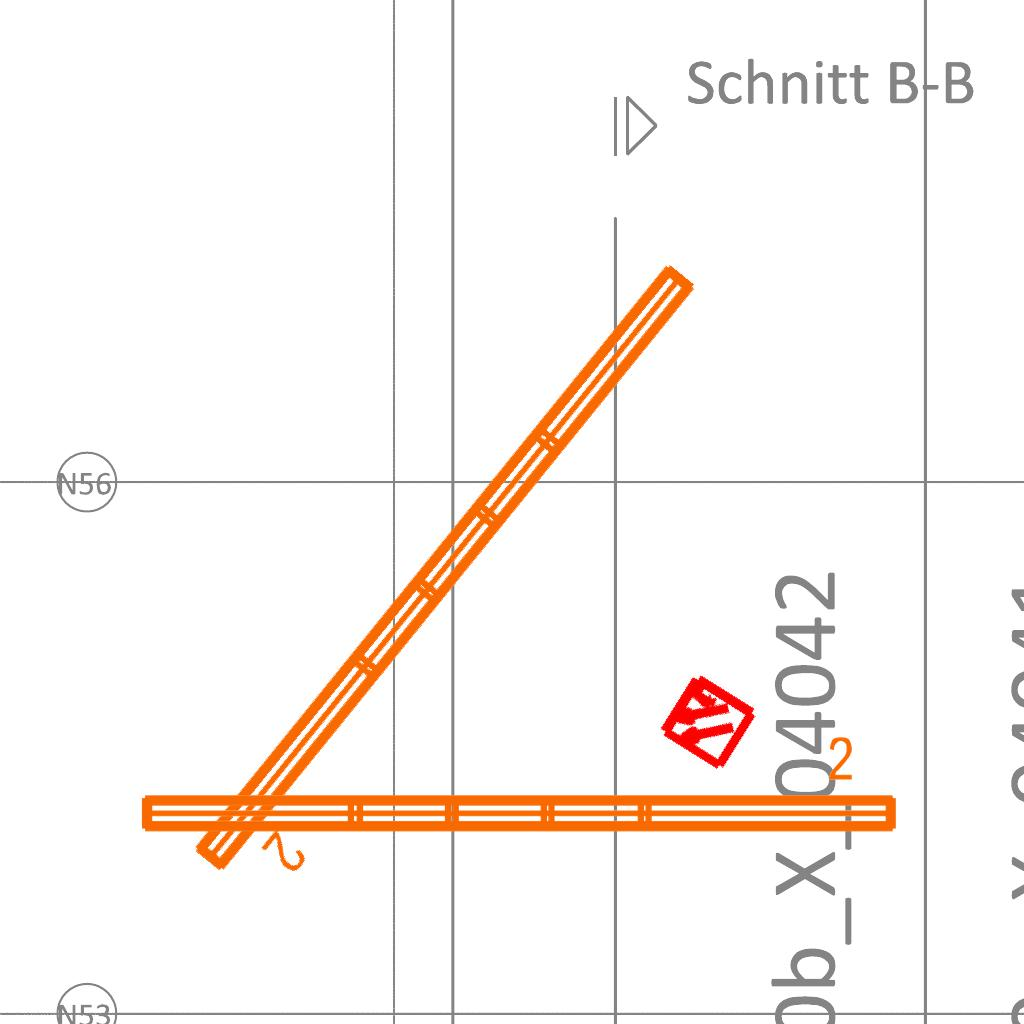Ambulanz_Pendelleuchte_LED: (177, 247, 753, 919), (131, 732, 905, 844)
OT_Multisensormelder_(Kombination_RMO_WMD): (628, 642, 785, 799)
